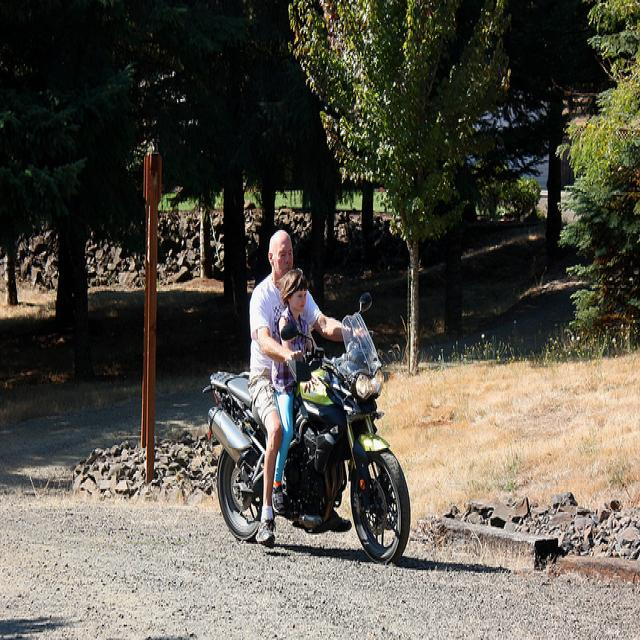motor: (193, 285, 419, 570)
